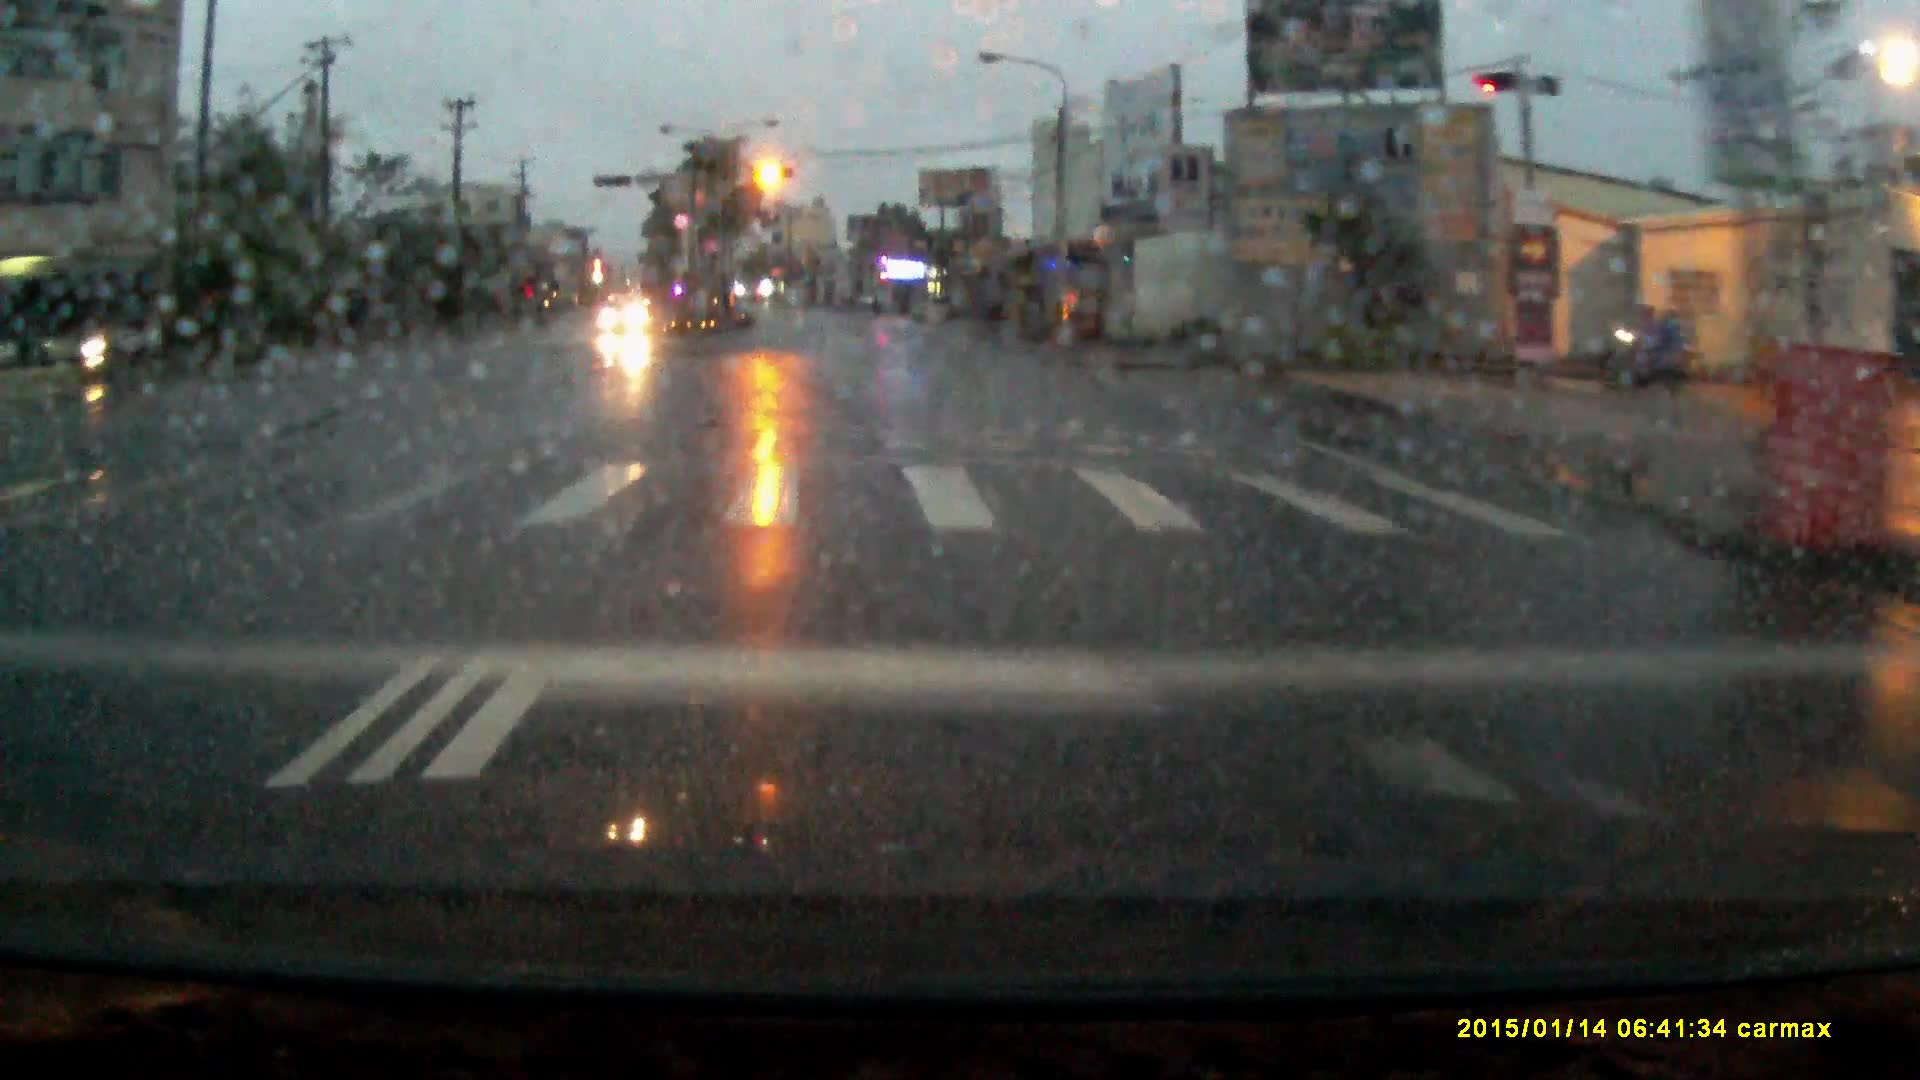rider: (1613, 293, 1689, 390), (75, 301, 124, 379)
vehicle: (602, 293, 656, 334)
